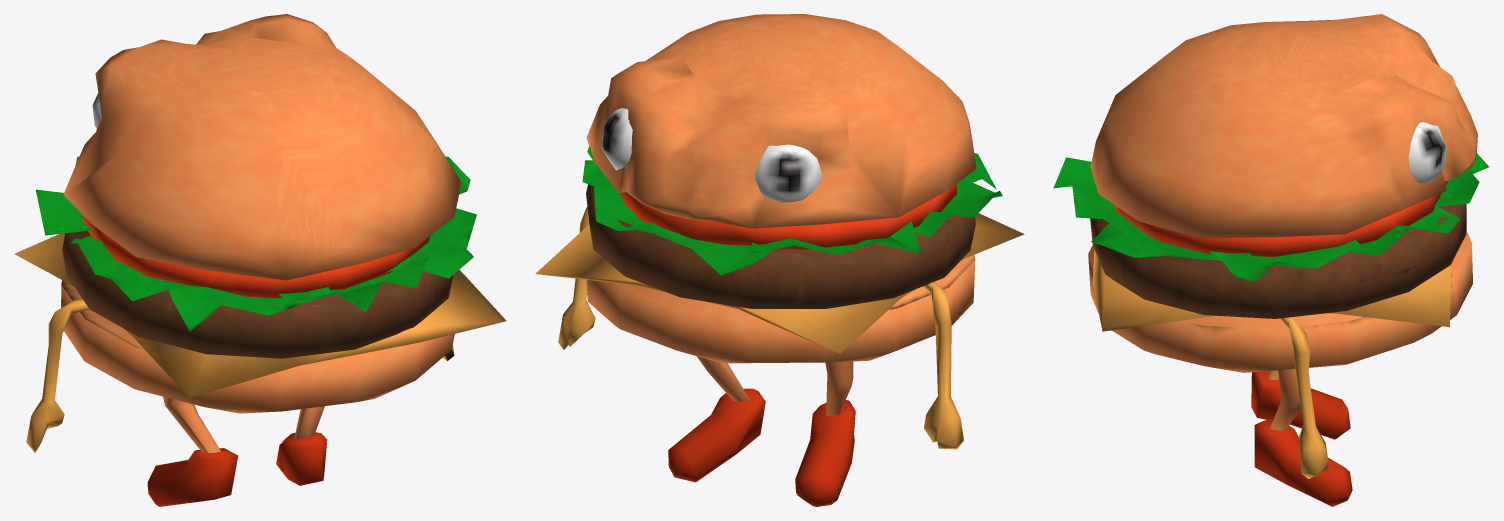
File: plushroyale.fbx
3 renders of one model, left to right at view 1: azimuth 30°, elevation 25°; view 2: azimuth 150°, elevation 25°; view 3: azimuth 270°, elevation 25°, orthographic. The views are drawn at different scales.
Parts seen in each view (by area): view 1: Royale; view 2: Royale; view 3: Royale.
Boxes of the visible parts, box(x1,y1,x2,y2) form: Royale: box(14, 14, 506, 506); Royale: box(535, 14, 1024, 506); Royale: box(1053, 14, 1489, 506).
Bounding box in the file's own units: 0.3577 × 0.3681 × 0.3432.
